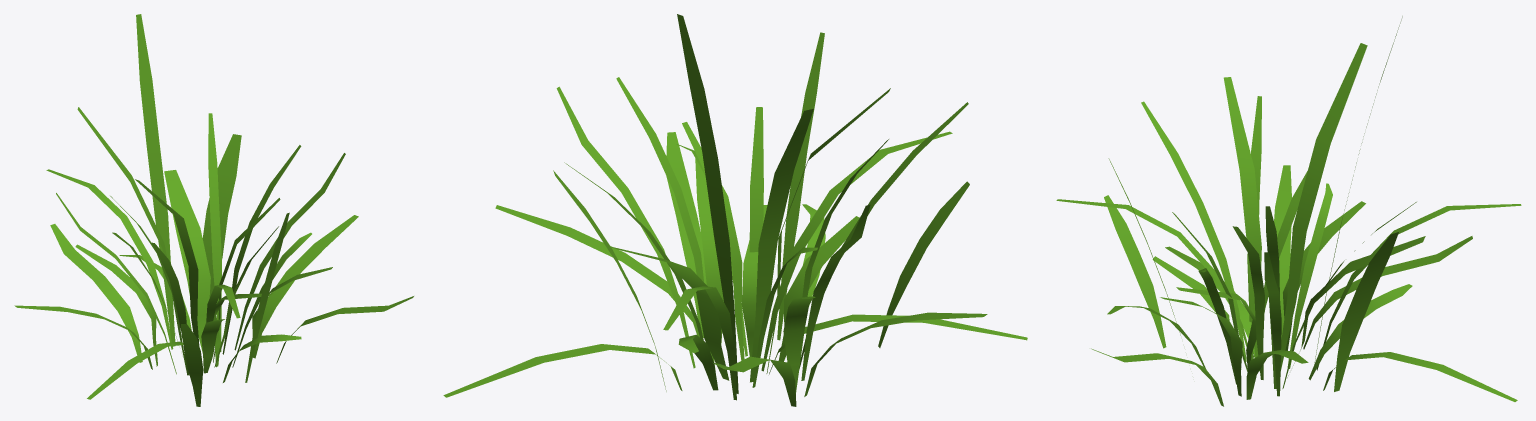
The model's file is grass.fbx.
3 renders of one model, left to right at view 1: azimuth 30°, elevation 25°; view 2: azimuth 150°, elevation 25°; view 3: azimuth 270°, elevation 25°, orthographic. The views are drawn at different scales.
Visible parts, largest first — view 1: BagaPie_Grass_002; view 2: BagaPie_Grass_002; view 3: BagaPie_Grass_002.
Boxes of the visible parts, <box> form: BagaPie_Grass_002: <box>14,14,413,406</box>; BagaPie_Grass_002: <box>443,14,1027,406</box>; BagaPie_Grass_002: <box>1056,16,1521,406</box>.
Size of the model in its own units: 36.16 by 30.32 by 35.85.
